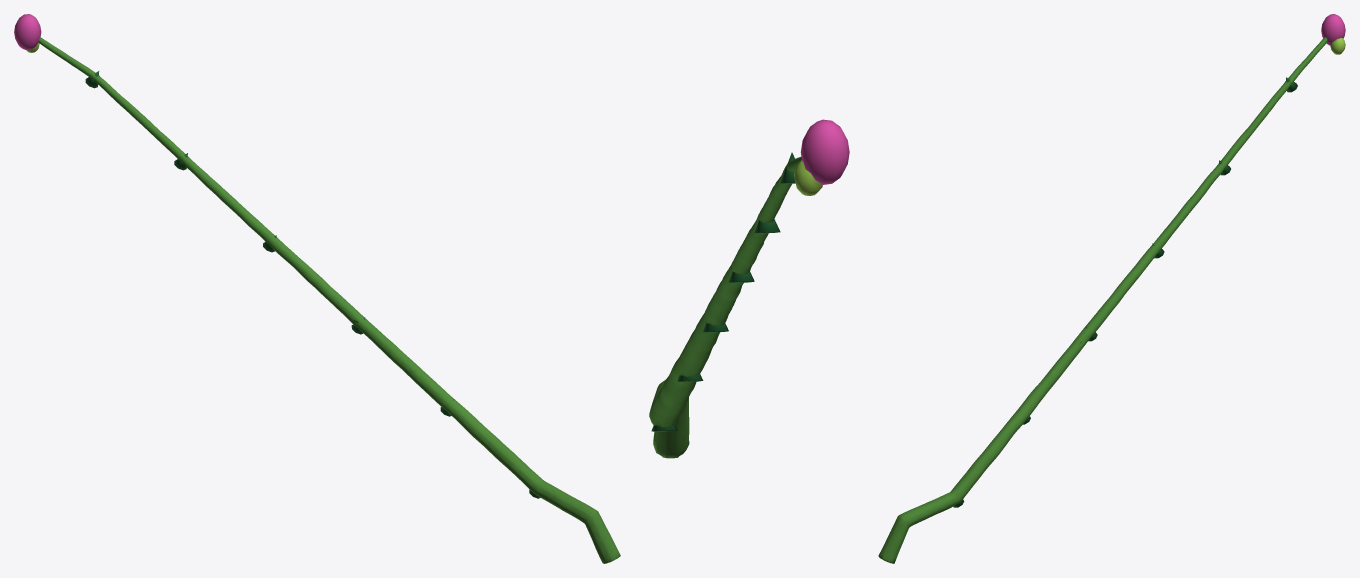
The model's file is canopy_orchid_spike.glb.
3 views of the same model, side by side, from view 1: azimuth 30°, elevation 25°; view 2: azimuth 150°, elevation 25°; view 3: azimuth 270°, elevation 25° (orthographic). The views are drawn at different scales.
Parts seen in each view (by area): view 1: canopy_orchid_spike; view 2: canopy_orchid_spike; view 3: canopy_orchid_spike.
Boxes of the visible parts, x1,y1,x2,y2 form: canopy_orchid_spike: (14,14,620,563); canopy_orchid_spike: (649,119,849,458); canopy_orchid_spike: (878,14,1345,563).
Size of the model in its own units: 16.52 by 19.94 by 21.
